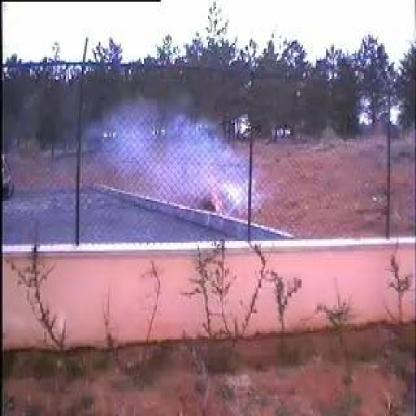-: (80, 98, 259, 238)
